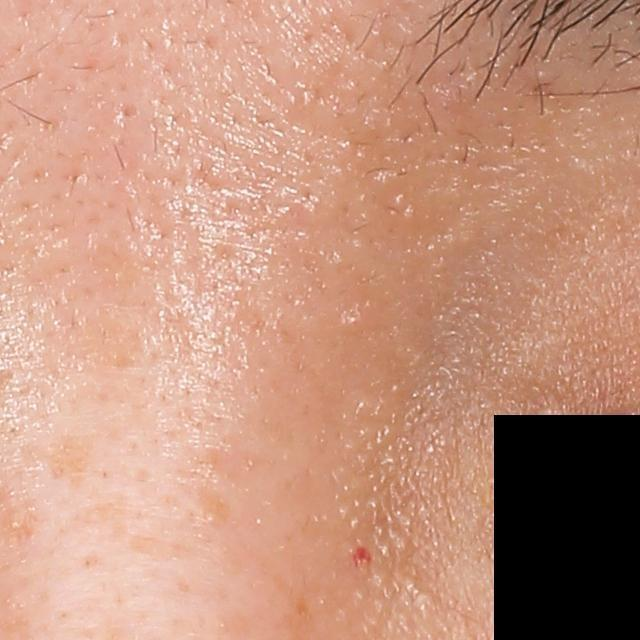melasma: (20, 433, 97, 495), (179, 479, 236, 524)
